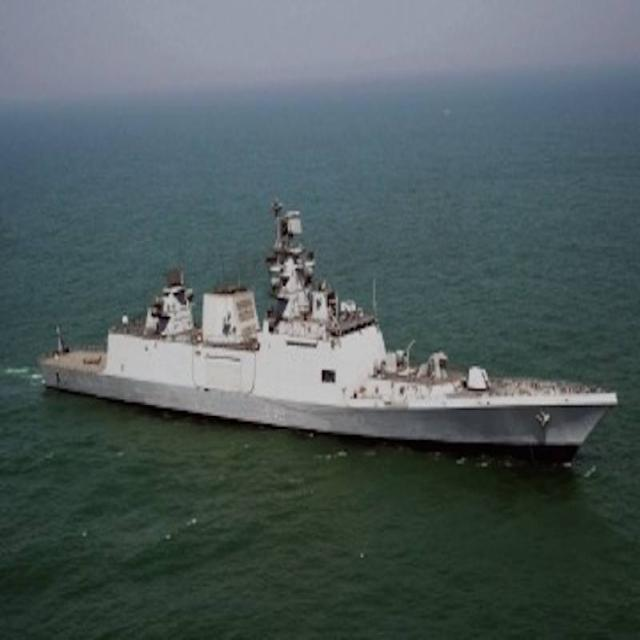Frigate-Shivalik-Class-IND: (35, 195, 619, 469)
